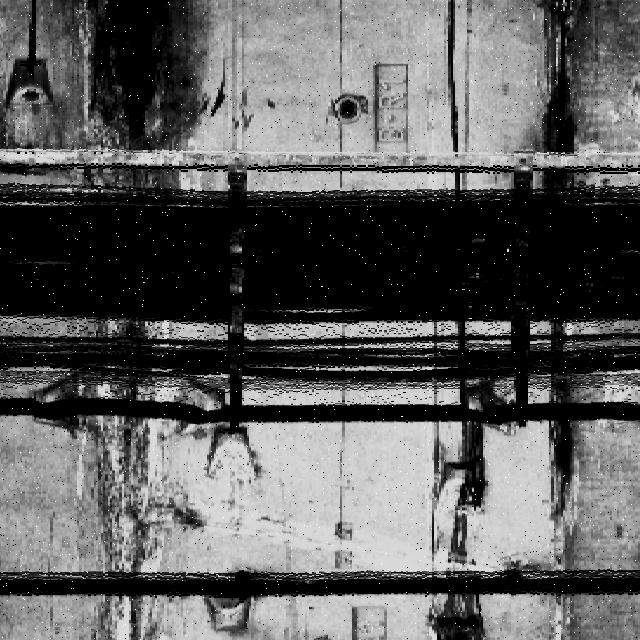leakage: (52, 0, 215, 194), (82, 314, 176, 639), (432, 377, 507, 639), (520, 0, 597, 191), (540, 308, 585, 566)
